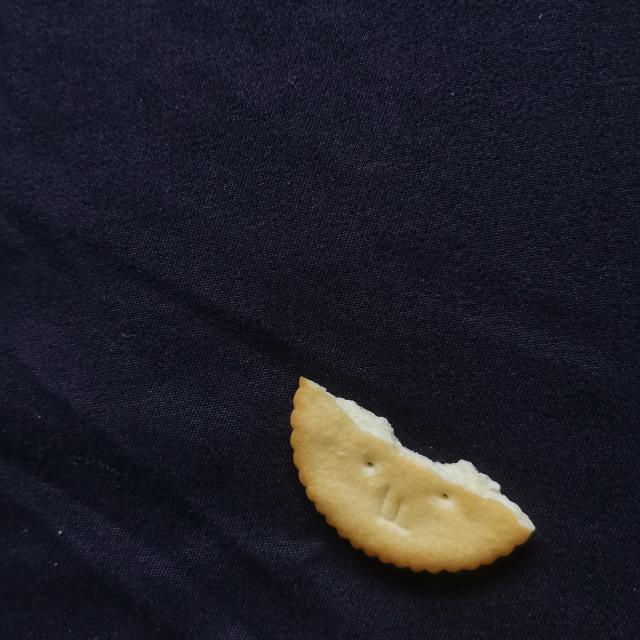Broken: (288, 374, 536, 574)
